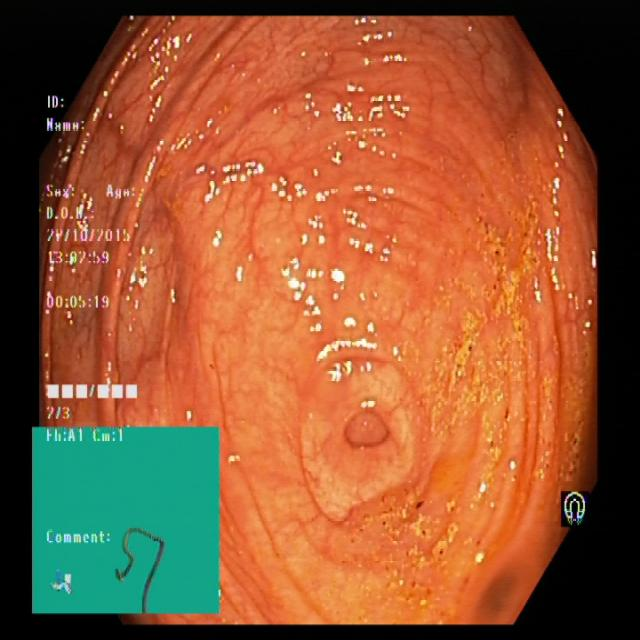normal-cecum: (337, 168, 596, 630)
